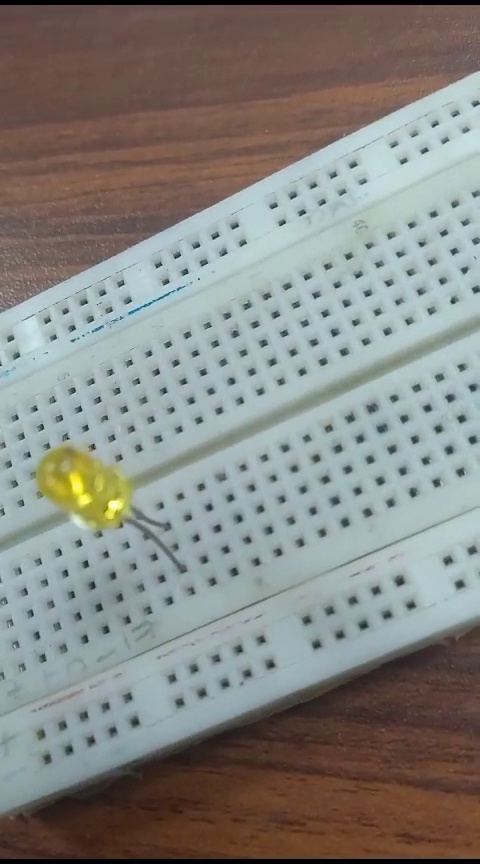LED: (34, 437, 172, 595)
